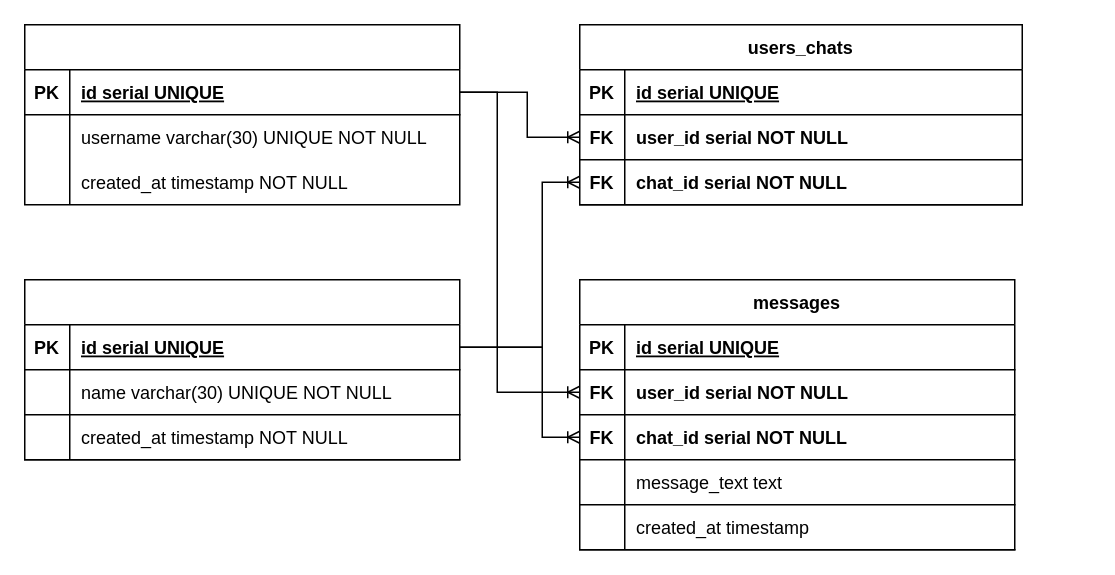
The diagram is 1115 pixels wide and 575 high, and some of its shapes have lost their labels. Each missing label, with the box of its shape:
chats: (23, 278, 460, 460)
users: (23, 23, 460, 205)
